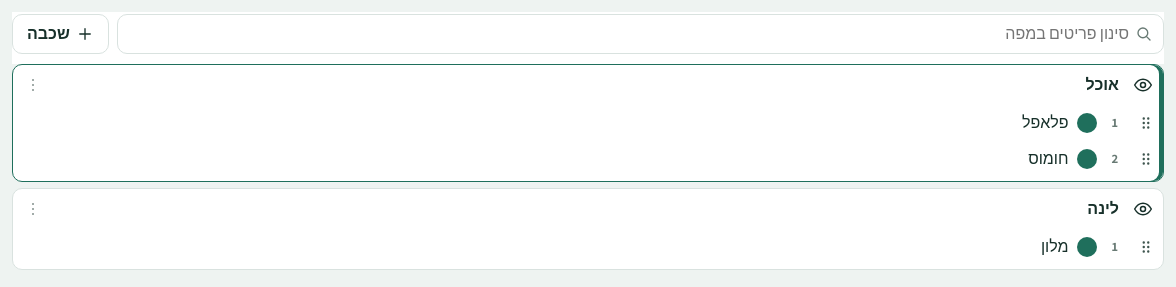
LayersPanel › lists layers and features, and filters by text
Expected: the text "אוכל" is shown, left=1086, top=74, right=1119, bottom=95
Expected: the text "מלון" is shown, left=1041, top=235, right=1068, bottom=259
Type "חומ" into the search field labelled "סינון פריטים".
click(628, 34); type("חומ")  # box left=128, top=15, right=1129, bottom=53
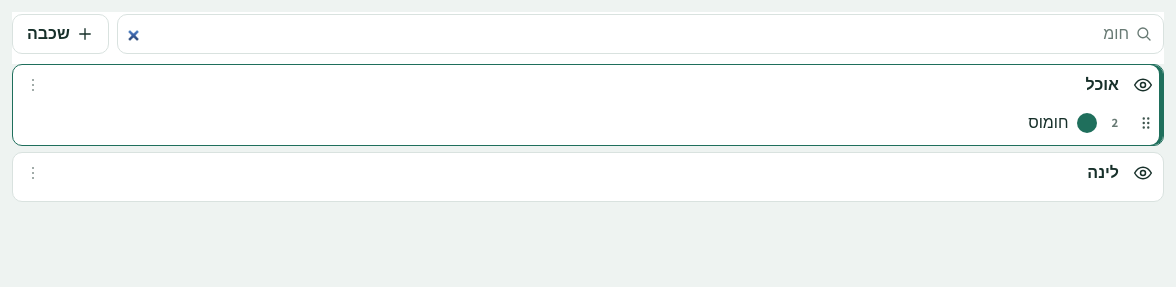
Expected: the text "חומוס" is shown, left=1028, top=111, right=1068, bottom=135
Expected: the button "פלאפל" is gone
